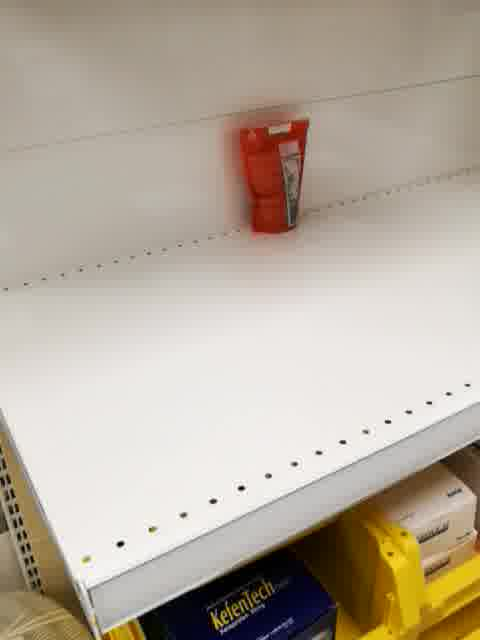whitechia: (235, 116, 309, 238)
